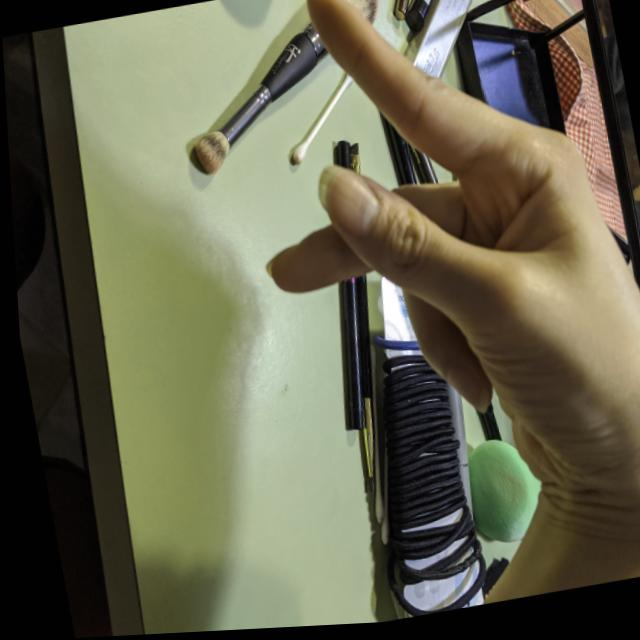P: (210, 0, 639, 546)
